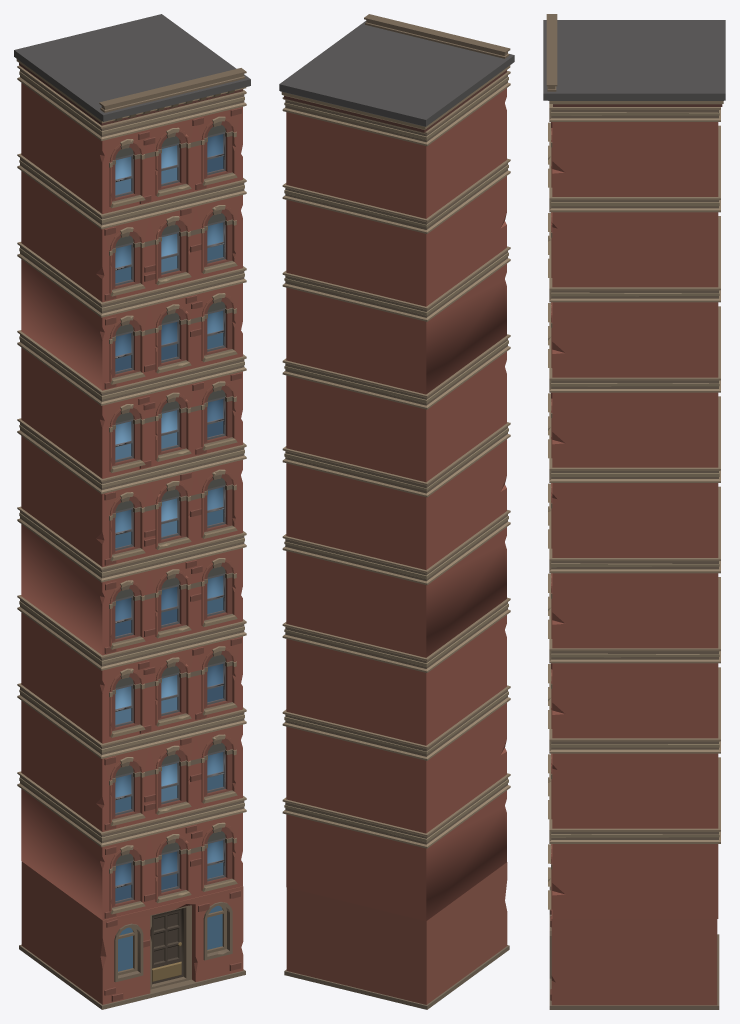
The model's file is penthouse.glb.
The picture shows the model from 3 angles, left to right: view 1: azimuth 30°, elevation 25°; view 2: azimuth 150°, elevation 25°; view 3: azimuth 270°, elevation 25°; orthographic projection. The views are drawn at different scales.
Parts seen in each view (by area): view 1: Pent_Floor_2, Pent_Floor_0, Pent_Floor_1, Pent_Base, Pent_Roof; view 2: Pent_Floor_0, Pent_Floor_1, Pent_Floor_2, Pent_Base, Pent_Roof; view 3: Pent_Floor_1, Pent_Floor_0, Pent_Floor_2, Pent_Roof, Pent_Base.
Boxes of the visible parts, left/top/right/bottom form: Pent_Floor_2: left=17, top=65, right=246, bottom=390; Pent_Floor_0: left=17, top=595, right=246, bottom=920; Pent_Floor_1: left=17, top=330, right=246, bottom=655; Pent_Base: left=19, top=861, right=245, bottom=1009; Pent_Roof: left=14, top=14, right=250, bottom=125; Pent_Floor_0: left=282, top=597, right=510, bottom=921; Pent_Floor_1: left=282, top=334, right=510, bottom=657; Pent_Floor_2: left=282, top=71, right=510, bottom=394; Pent_Base: left=284, top=862, right=509, bottom=1009; Pent_Roof: left=279, top=14, right=514, bottom=132; Pent_Floor_1: left=548, top=306, right=720, bottom=648; Pent_Floor_0: left=548, top=577, right=720, bottom=918; Pent_Floor_2: left=548, top=104, right=720, bottom=377; Pent_Roof: left=543, top=14, right=725, bottom=106; Pent_Base: left=549, top=863, right=719, bottom=1009.
Size of what is drawn, in the model's own units: 5.25 by 30.74 by 5.49.
1 material, 1 textured.
